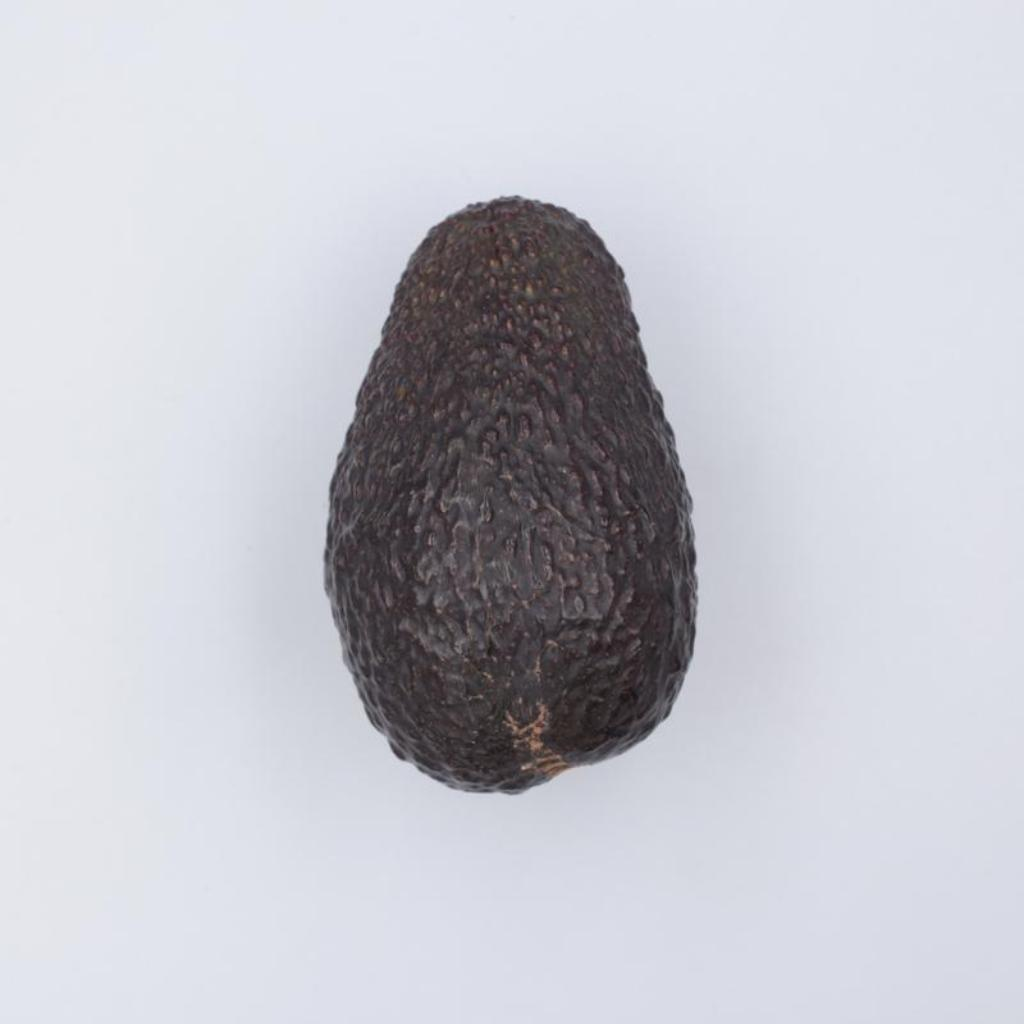scab: (325, 197, 696, 791)
